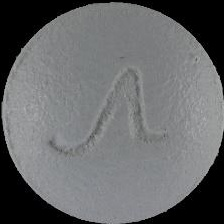68084-830: (0, 0, 224, 224)
